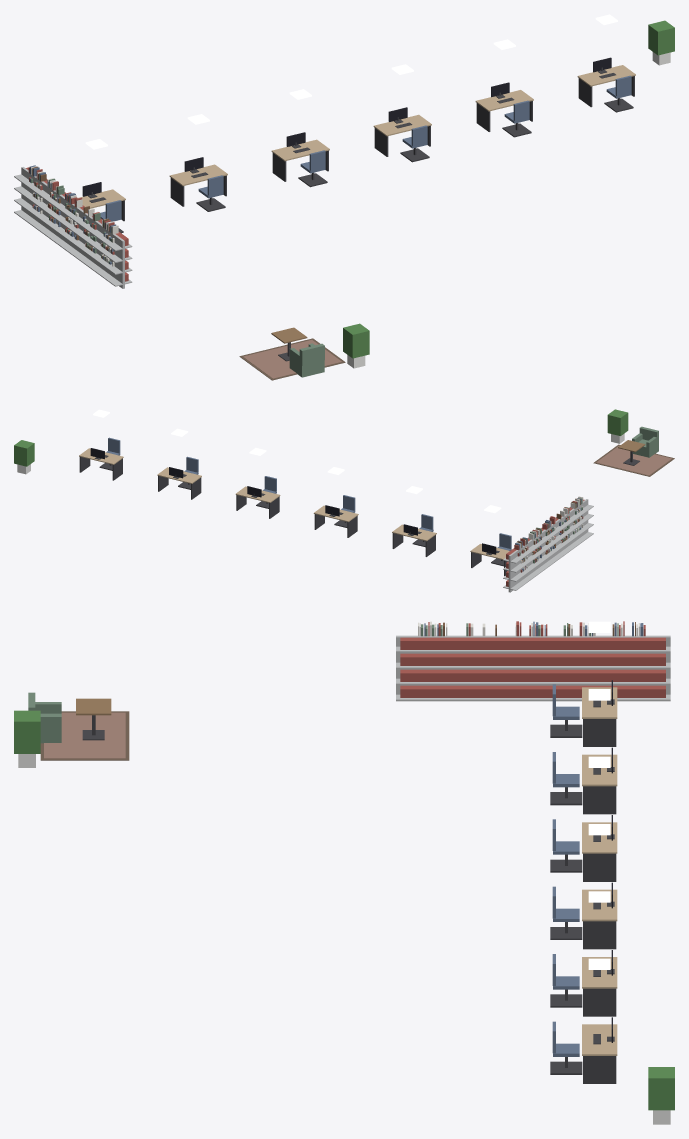
The model's file is fine-s2.glb.
3 renders of one model, top to bottom at view 1: azimuth 30°, elevation 25°; view 2: azimuth 150°, elevation 25°; view 3: azimuth 270°, elevation 25°, orthographic. The views are drawn at different scales.
Parts seen in each view (by area): view 1: soft-s2, shelving.009, shelving.005, office-desk-real.007, office-desk-real.008, office-desk-real.009, office-desk-real.011, office-desk-real.010, shelving.008, shelving.006, sofa.001, plant-medium.002 (+8 smaller); view 2: soft-s2, shelving.005, office-desk-real.011, office-desk-real.007, office-desk-real.008, office-desk-real.009, office-desk-real.010, shelving.008, shelving.009, plant-medium.002, shelving.007, shelving.006 (+4 smaller); view 3: soft-s2, shelving.005, shelving.009, shelving.007, shelving.008, shelving.006, office-desk-real.011, office-desk-real.009, office-desk-real.007, office-desk-real.006, office-desk-real.008, office-desk-real.010 (+10 smaller).
Part boxes in pixels (left/top/right/bottom): soft-s2: left=28, top=165, right=345, bottom=380; shelving.009: left=86, top=221, right=132, bottom=288; shelving.005: left=14, top=167, right=50, bottom=233; office-desk-real.007: left=169, top=157, right=227, bottom=206; office-desk-real.008: left=271, top=132, right=329, bottom=181; office-desk-real.009: left=373, top=107, right=431, bottom=156; office-desk-real.011: left=577, top=57, right=635, bottom=107; office-desk-real.010: left=475, top=82, right=533, bottom=131; shelving.008: left=68, top=207, right=104, bottom=272; shelving.006: left=34, top=180, right=68, bottom=246; sofa.001: left=289, top=343, right=324, bottom=377; plant-medium.002: left=343, top=323, right=369, bottom=368; soft-s2: left=514, top=444, right=674, bottom=572; shelving.005: left=503, top=539, right=538, bottom=592; office-desk-real.011: left=79, top=448, right=123, bottom=480; office-desk-real.007: left=392, top=524, right=436, bottom=556; office-desk-real.008: left=313, top=505, right=358, bottom=537; office-desk-real.009: left=235, top=486, right=280, bottom=518; office-desk-real.010: left=157, top=467, right=201, bottom=499; shelving.008: left=552, top=509, right=579, bottom=559; shelving.009: left=565, top=499, right=593, bottom=549; plant-medium.002: left=607, top=409, right=628, bottom=443; shelving.007: left=537, top=519, right=565, bottom=568; shelving.006: left=524, top=529, right=552, bottom=580; soft-s2: left=40, top=621, right=645, bottom=760; shelving.005: left=590, top=635, right=670, bottom=701; shelving.009: left=396, top=635, right=475, bottom=701; shelving.007: left=493, top=635, right=572, bottom=701; shelving.008: left=444, top=635, right=524, bottom=701; shelving.006: left=542, top=635, right=621, bottom=701; office-desk-real.011: left=582, top=1017, right=617, bottom=1083; office-desk-real.009: left=582, top=882, right=617, bottom=949; office-desk-real.007: left=582, top=747, right=617, bottom=814; office-desk-real.006: left=582, top=680, right=617, bottom=746; office-desk-real.008: left=582, top=815, right=617, bottom=881; office-desk-real.010: left=582, top=950, right=617, bottom=1016.
Size of the model in its own units: 23.04 by 2.64 by 14.92.
